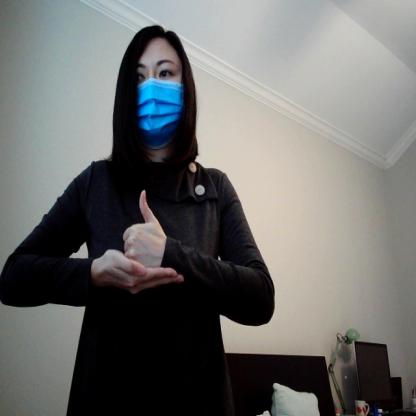help: (82, 183, 192, 293)
